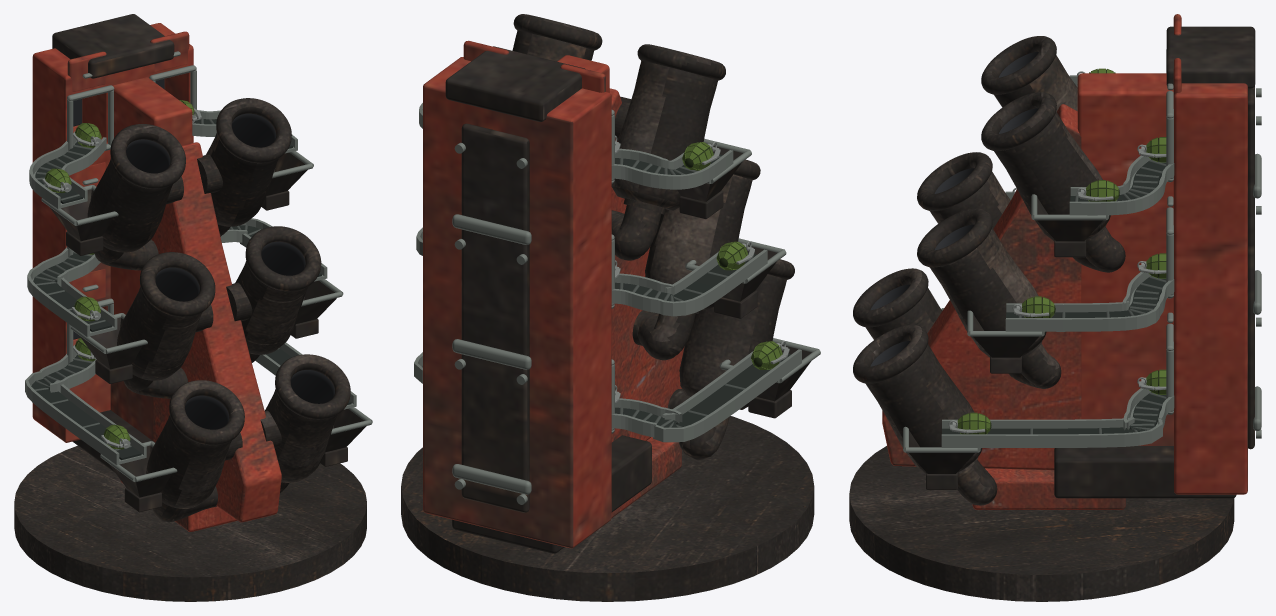
File: six_lobber_central_feed_v07.glb
3 renders of one model, left to right at view 1: azimuth 30°, elevation 25°; view 2: azimuth 150°, elevation 25°; view 3: azimuth 270°, elevation 25°, orthographic. The views are drawn at different scales.
Visible parts, largest first — view 1: ROTARY_ADAPTER, CENTRAL_FIN, CENTRAL_AMMUNITION_ARMOURED_SPINE, CAST_CANNON_LEFT_1, CAST_CANNON_LEFT_2, CAST_CANNON_LEFT_3, CENTRAL_ARM_TO_FIN_BRIDGE, ROUNDED_MUZZLE_LEFT_2, ROUNDED_MUZZLE_LEFT_3, ROUNDED_MUZZLE_LEFT_1, CENTRAL_FEED_TOP_CAP, SLOPED_EXIT_CHUTE_LEFT_3 (+27 smaller); view 2: CENTRAL_AMMUNITION_ARMOURED_SPINE, ROTARY_ADAPTER, SPINE_REAR_SERVICE_COVER, CAST_CANNON_LEFT_1, CENTRAL_FEED_TOP_CAP, CAST_CANNON_LEFT_3, CENTRAL_FIN, CAST_CANNON_LEFT_2, SLOPED_EXIT_CHUTE_LEFT_3, SLOPED_EXIT_CHUTE_LEFT_2, CENTRAL_FEED_BASE_CASTING, ROUNDED_MUZZLE_LEFT_1 (+21 smaller); view 3: ROTARY_ADAPTER, CENTRAL_AMMUNITION_ARMOURED_SPINE, CENTRAL_ARM_TO_FIN_BRIDGE, CENTRAL_FIN, CAST_CANNON_LEFT_1, CAST_CANNON_LEFT_2, CAST_CANNON_LEFT_3, CENTRAL_FEED_BASE_CASTING, SLOPED_EXIT_CHUTE_LEFT_3, ROUNDED_MUZZLE_LEFT_2, ROUNDED_MUZZLE_LEFT_1, ROUNDED_MUZZLE_LEFT_3 (+18 smaller).
Boxes of the visible parts, x1,y1,x2,y2 form: ROTARY_ADAPTER: [14, 445, 366, 601]; CENTRAL_FIN: [153, 142, 281, 522]; CENTRAL_AMMUNITION_ARMOURED_SPINE: [32, 23, 193, 442]; CAST_CANNON_LEFT_1: [87, 113, 278, 252]; CAST_CANNON_LEFT_2: [117, 241, 307, 380]; CAST_CANNON_LEFT_3: [146, 370, 337, 508]; CENTRAL_ARM_TO_FIN_BRIDGE: [110, 77, 192, 440]; ROUNDED_MUZZLE_LEFT_2: [139, 226, 321, 317]; ROUNDED_MUZZLE_LEFT_3: [169, 354, 350, 445]; ROUNDED_MUZZLE_LEFT_1: [110, 98, 291, 188]; CENTRAL_FEED_TOP_CAP: [52, 14, 174, 78]; SLOPED_EXIT_CHUTE_LEFT_3: [25, 342, 356, 464]; CENTRAL_AMMUNITION_ARMOURED_SPINE: [423, 57, 611, 548]; ROTARY_ADAPTER: [401, 416, 814, 601]; SPINE_REAR_SERVICE_COVER: [461, 123, 529, 512]; CAST_CANNON_LEFT_1: [512, 30, 717, 210]; CENTRAL_FEED_TOP_CAP: [445, 46, 585, 121]; CAST_CANNON_LEFT_3: [679, 274, 786, 409]; CENTRAL_FIN: [609, 88, 684, 442]; CAST_CANNON_LEFT_2: [645, 174, 752, 310]; SLOPED_EXIT_CHUTE_LEFT_3: [414, 349, 801, 442]; SLOPED_EXIT_CHUTE_LEFT_2: [416, 227, 767, 316]; CENTRAL_FEED_BASE_CASTING: [452, 435, 651, 553]; ROUNDED_MUZZLE_LEFT_1: [513, 14, 725, 80]; ROTARY_ADAPTER: [849, 446, 1234, 601]; CENTRAL_AMMUNITION_ARMOURED_SPINE: [1174, 83, 1247, 494]; CENTRAL_ARM_TO_FIN_BRIDGE: [1077, 73, 1173, 445]; CENTRAL_FIN: [882, 104, 1081, 470]; CAST_CANNON_LEFT_1: [994, 52, 1110, 240]; CAST_CANNON_LEFT_2: [930, 168, 1046, 357]; CAST_CANNON_LEFT_3: [866, 284, 982, 473]; CENTRAL_FEED_BASE_CASTING: [1054, 446, 1236, 498]; SLOPED_EXIT_CHUTE_LEFT_3: [941, 308, 1174, 447]; ROUNDED_MUZZLE_LEFT_2: [917, 152, 992, 267]; ROUNDED_MUZZLE_LEFT_1: [981, 36, 1056, 151]; ROUNDED_MUZZLE_LEFT_3: [853, 268, 928, 383].
Bounding box in the file's own units: 1.56 × 2.13 × 1.67.
Materials: 12 (2 with a texture image).
